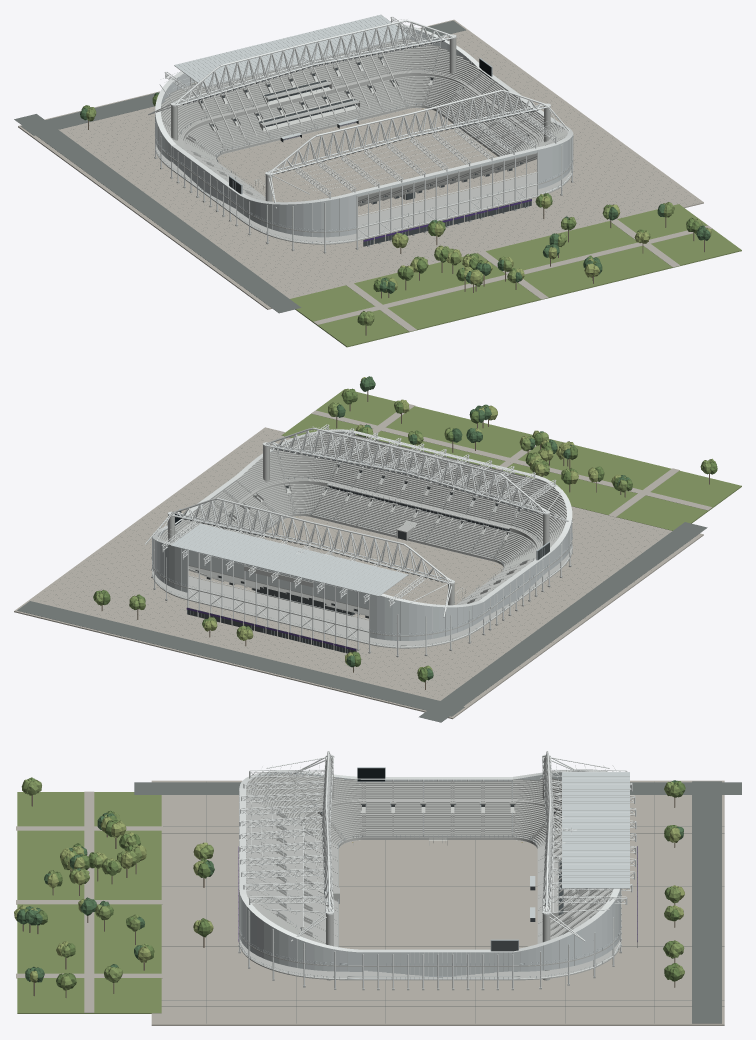
File: bloomfield.glb
3 views of the same model, one above another, from view 1: azimuth 30°, elevation 25°; view 2: azimuth 150°, elevation 25°; view 3: azimuth 270°, elevation 25° (orthographic). The views are drawn at different scales.
Parts seen in each view (by area): view 1: M_Misc__Plaza stone paving, M_Misc__Garden grass, M_Misc__Precast concrete | warm pale gray, M_West__Precast concrete | warm pale gray, M_East__Painted white structural steel, M_Misc__Service apron, M_Misc__Pearl gray facade panels, M_Misc__Painted white structural steel, M_West__Painted white structural steel, M_West__Pearl gray facade panels, M_NW__Precast concrete | warm pale gray, M_North__Precast concrete | warm pale gray (+12 smaller); view 2: M_Misc__Plaza stone paving, M_East__Precast concrete | warm pale gray, M_Misc__Garden grass, M_Misc__Service apron, M_Misc__Pearl gray facade panels, M_Misc__Precast concrete | warm pale gray, M_West__Painted white structural steel, M_East__Painted white structural steel, M_Misc__Painted white structural steel, M_West__Pearl gray facade panels, M_NE__Precast concrete | warm pale gray, M_SE__Precast concrete | warm pale gray (+11 smaller); view 3: M_Misc__Plaza stone paving, M_Misc__Garden grass, M_Misc__Service apron, M_Misc__Pearl gray facade panels, M_South__Precast concrete | warm pale gray, M_East__Precast concrete | warm pale gray, M_West__Pearl gray facade panels, M_East__Painted white structural steel, M_Misc__Painted white structural steel, M_West__Painted white structural steel, M_Misc__Precast concrete | warm pale gray, M_SE__Precast concrete | warm pale gray (+9 smaller).
Part boxes in pixels (x1=…): M_Misc__Plaza stone paving: x1=18, y1=19, x2=712, y2=331; M_Misc__Garden grass: x1=290, y1=204, x2=741, y2=347; M_Misc__Precast concrete | warm pale gray: x1=154, y1=45, x2=573, y2=253; M_West__Precast concrete | warm pale gray: x1=171, y1=38, x2=456, y2=152; M_East__Painted white structural steel: x1=265, y1=90, x2=573, y2=208; M_Misc__Service apron: x1=14, y1=20, x2=693, y2=313; M_Misc__Pearl gray facade panels: x1=155, y1=25, x2=573, y2=237; M_Misc__Painted white structural steel: x1=155, y1=22, x2=573, y2=251; M_West__Painted white structural steel: x1=148, y1=15, x2=456, y2=125; M_West__Pearl gray facade panels: x1=174, y1=14, x2=408, y2=138; M_NW__Precast concrete | warm pale gray: x1=376, y1=39, x2=481, y2=111; M_North__Precast concrete | warm pale gray: x1=438, y1=73, x2=543, y2=156; M_Misc__Plaza stone paving: x1=14, y1=404, x2=711, y2=719; M_East__Precast concrete | warm pale gray: x1=263, y1=434, x2=549, y2=561; M_Misc__Garden grass: x1=281, y1=389, x2=741, y2=530; M_Misc__Service apron: x1=17, y1=430, x2=707, y2=722; M_Misc__Pearl gray facade panels: x1=152, y1=431, x2=572, y2=640; M_Misc__Precast concrete | warm pale gray: x1=151, y1=467, x2=572, y2=657; M_West__Painted white structural steel: x1=145, y1=498, x2=454, y2=617; M_East__Painted white structural steel: x1=262, y1=424, x2=572, y2=529; M_Misc__Painted white structural steel: x1=152, y1=429, x2=572, y2=655; M_West__Pearl gray facade panels: x1=171, y1=524, x2=407, y2=596; M_NE__Precast concrete | warm pale gray: x1=236, y1=431, x2=353, y2=519; M_SE__Precast concrete | warm pale gray: x1=493, y1=479, x2=566, y2=571; M_Misc__Plaza stone paving: x1=16, y1=780, x2=724, y2=1025; M_Misc__Garden grass: x1=17, y1=792, x2=161, y2=1013; M_Misc__Service apron: x1=134, y1=781, x2=741, y2=1023; M_Misc__Pearl gray facade panels: x1=239, y1=771, x2=620, y2=977; M_South__Precast concrete | warm pale gray: x1=360, y1=781, x2=515, y2=839; M_East__Precast concrete | warm pale gray: x1=246, y1=770, x2=339, y2=980; M_West__Pearl gray facade panels: x1=530, y1=772, x2=629, y2=917; M_East__Painted white structural steel: x1=239, y1=751, x2=334, y2=941; M_Misc__Painted white structural steel: x1=239, y1=769, x2=621, y2=988; M_West__Painted white structural steel: x1=542, y1=751, x2=636, y2=941; M_Misc__Precast concrete | warm pale gray: x1=238, y1=800, x2=621, y2=990; M_SE__Precast concrete | warm pale gray: x1=246, y1=773, x2=366, y2=848.
Size of the model in its own units: 232 by 44.59 by 292.
